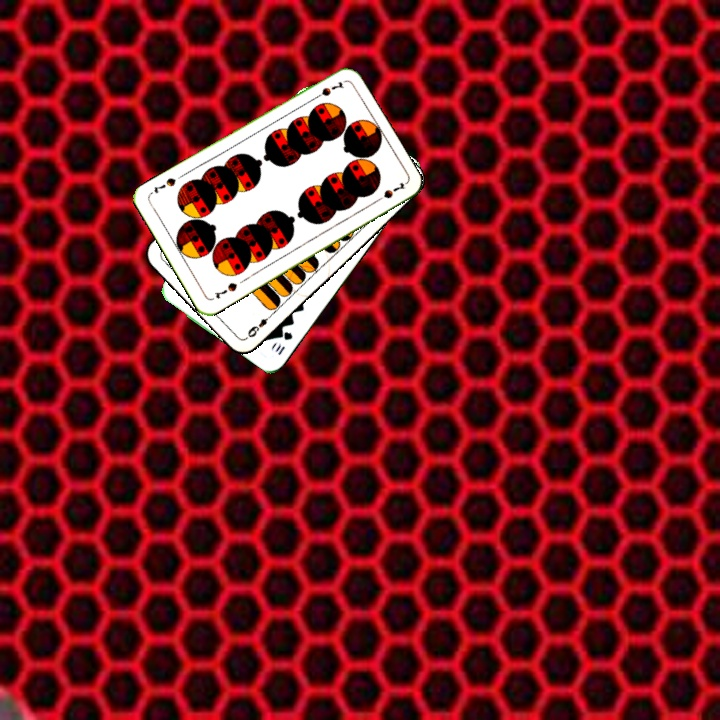E9: (243, 309, 275, 340)
G10: (271, 327, 295, 358)
S7: (309, 77, 347, 102), (210, 278, 240, 301)
